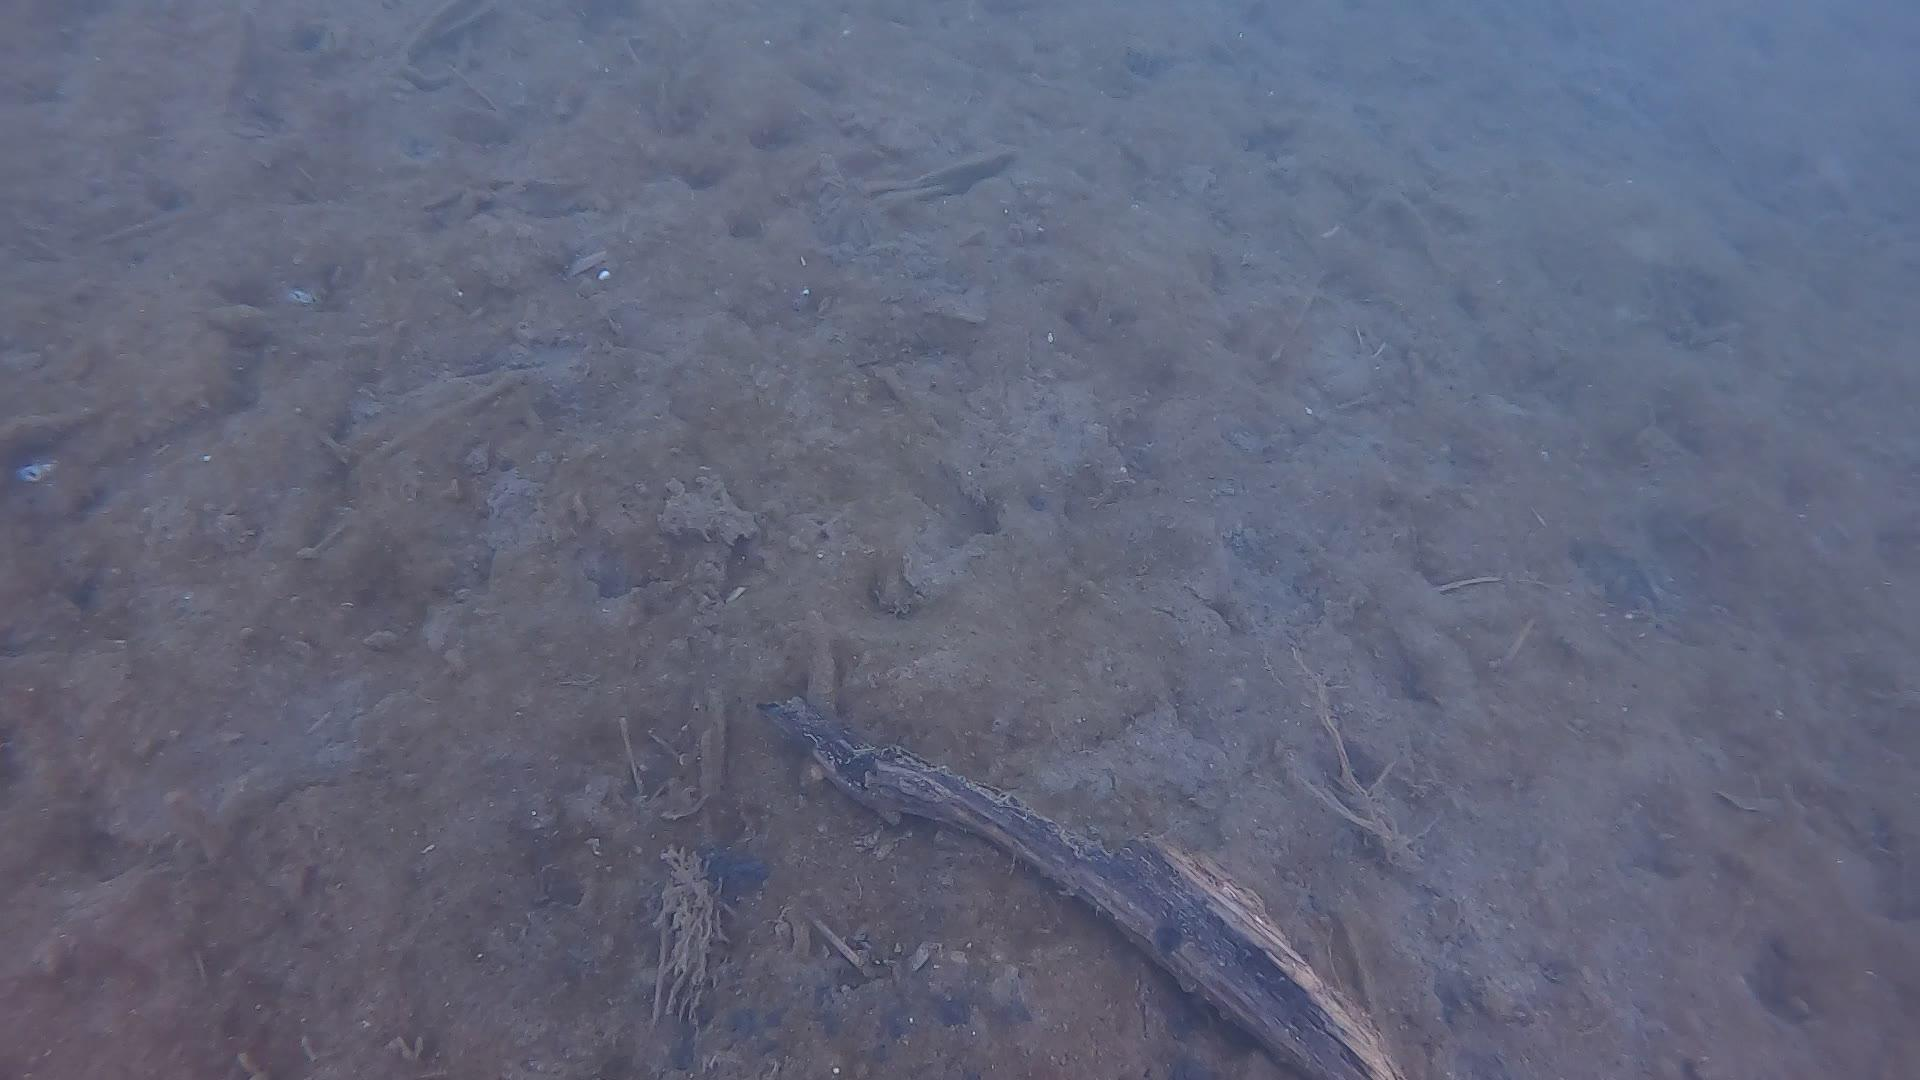wood: (778, 698, 1390, 1080)
